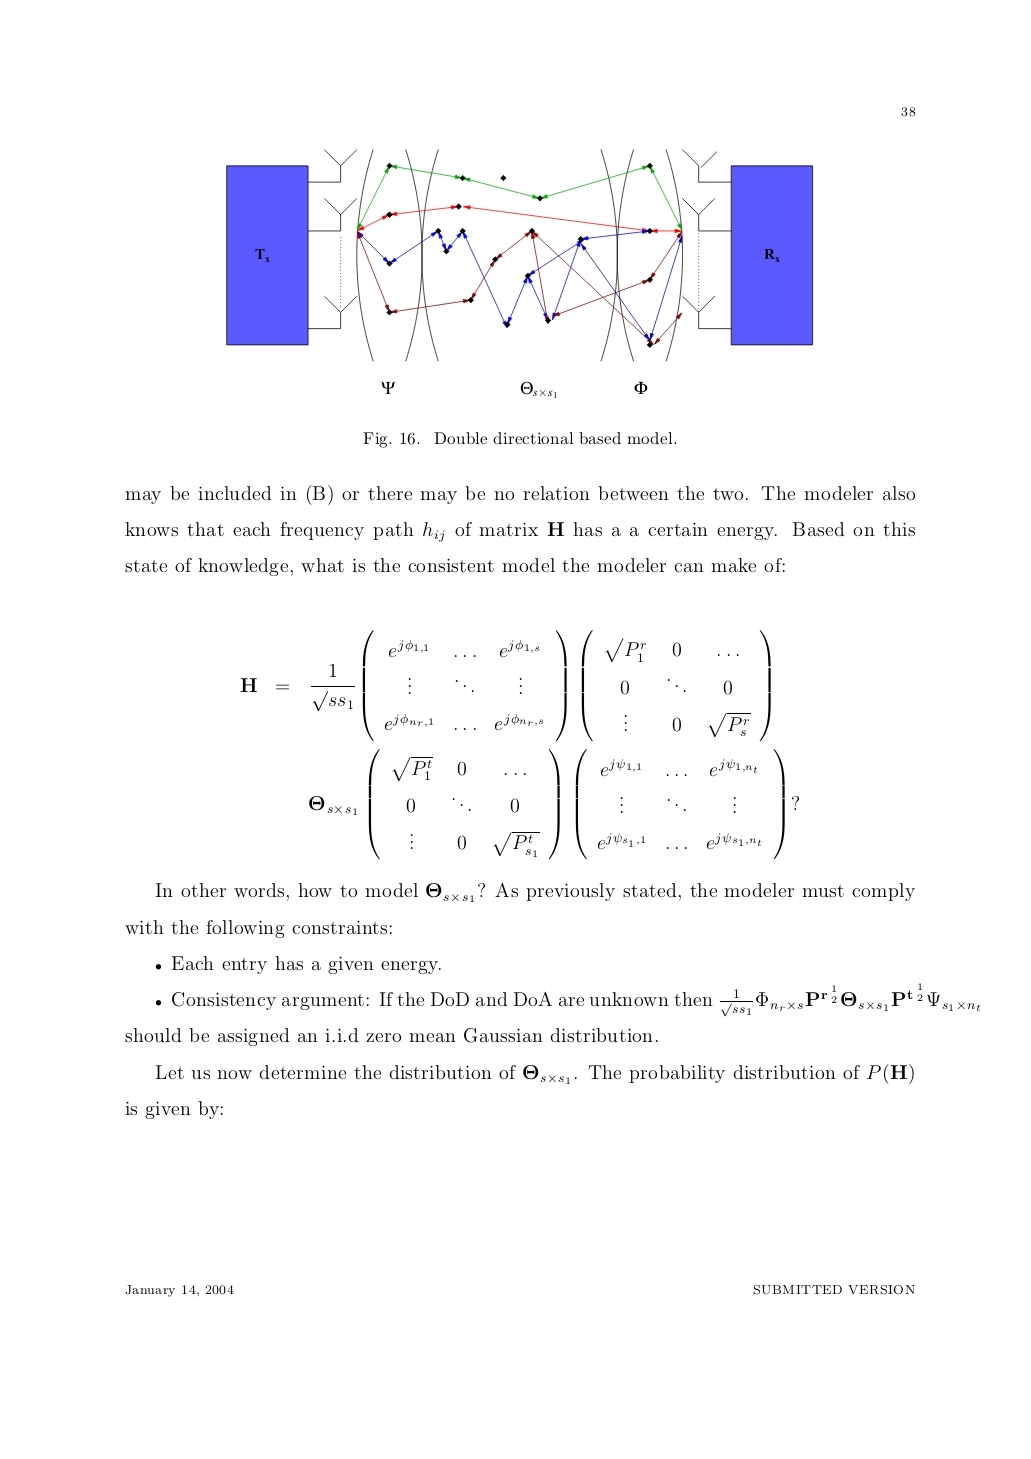figure: (227, 149, 813, 397)
formula: (240, 629, 770, 742), (309, 748, 799, 860)
